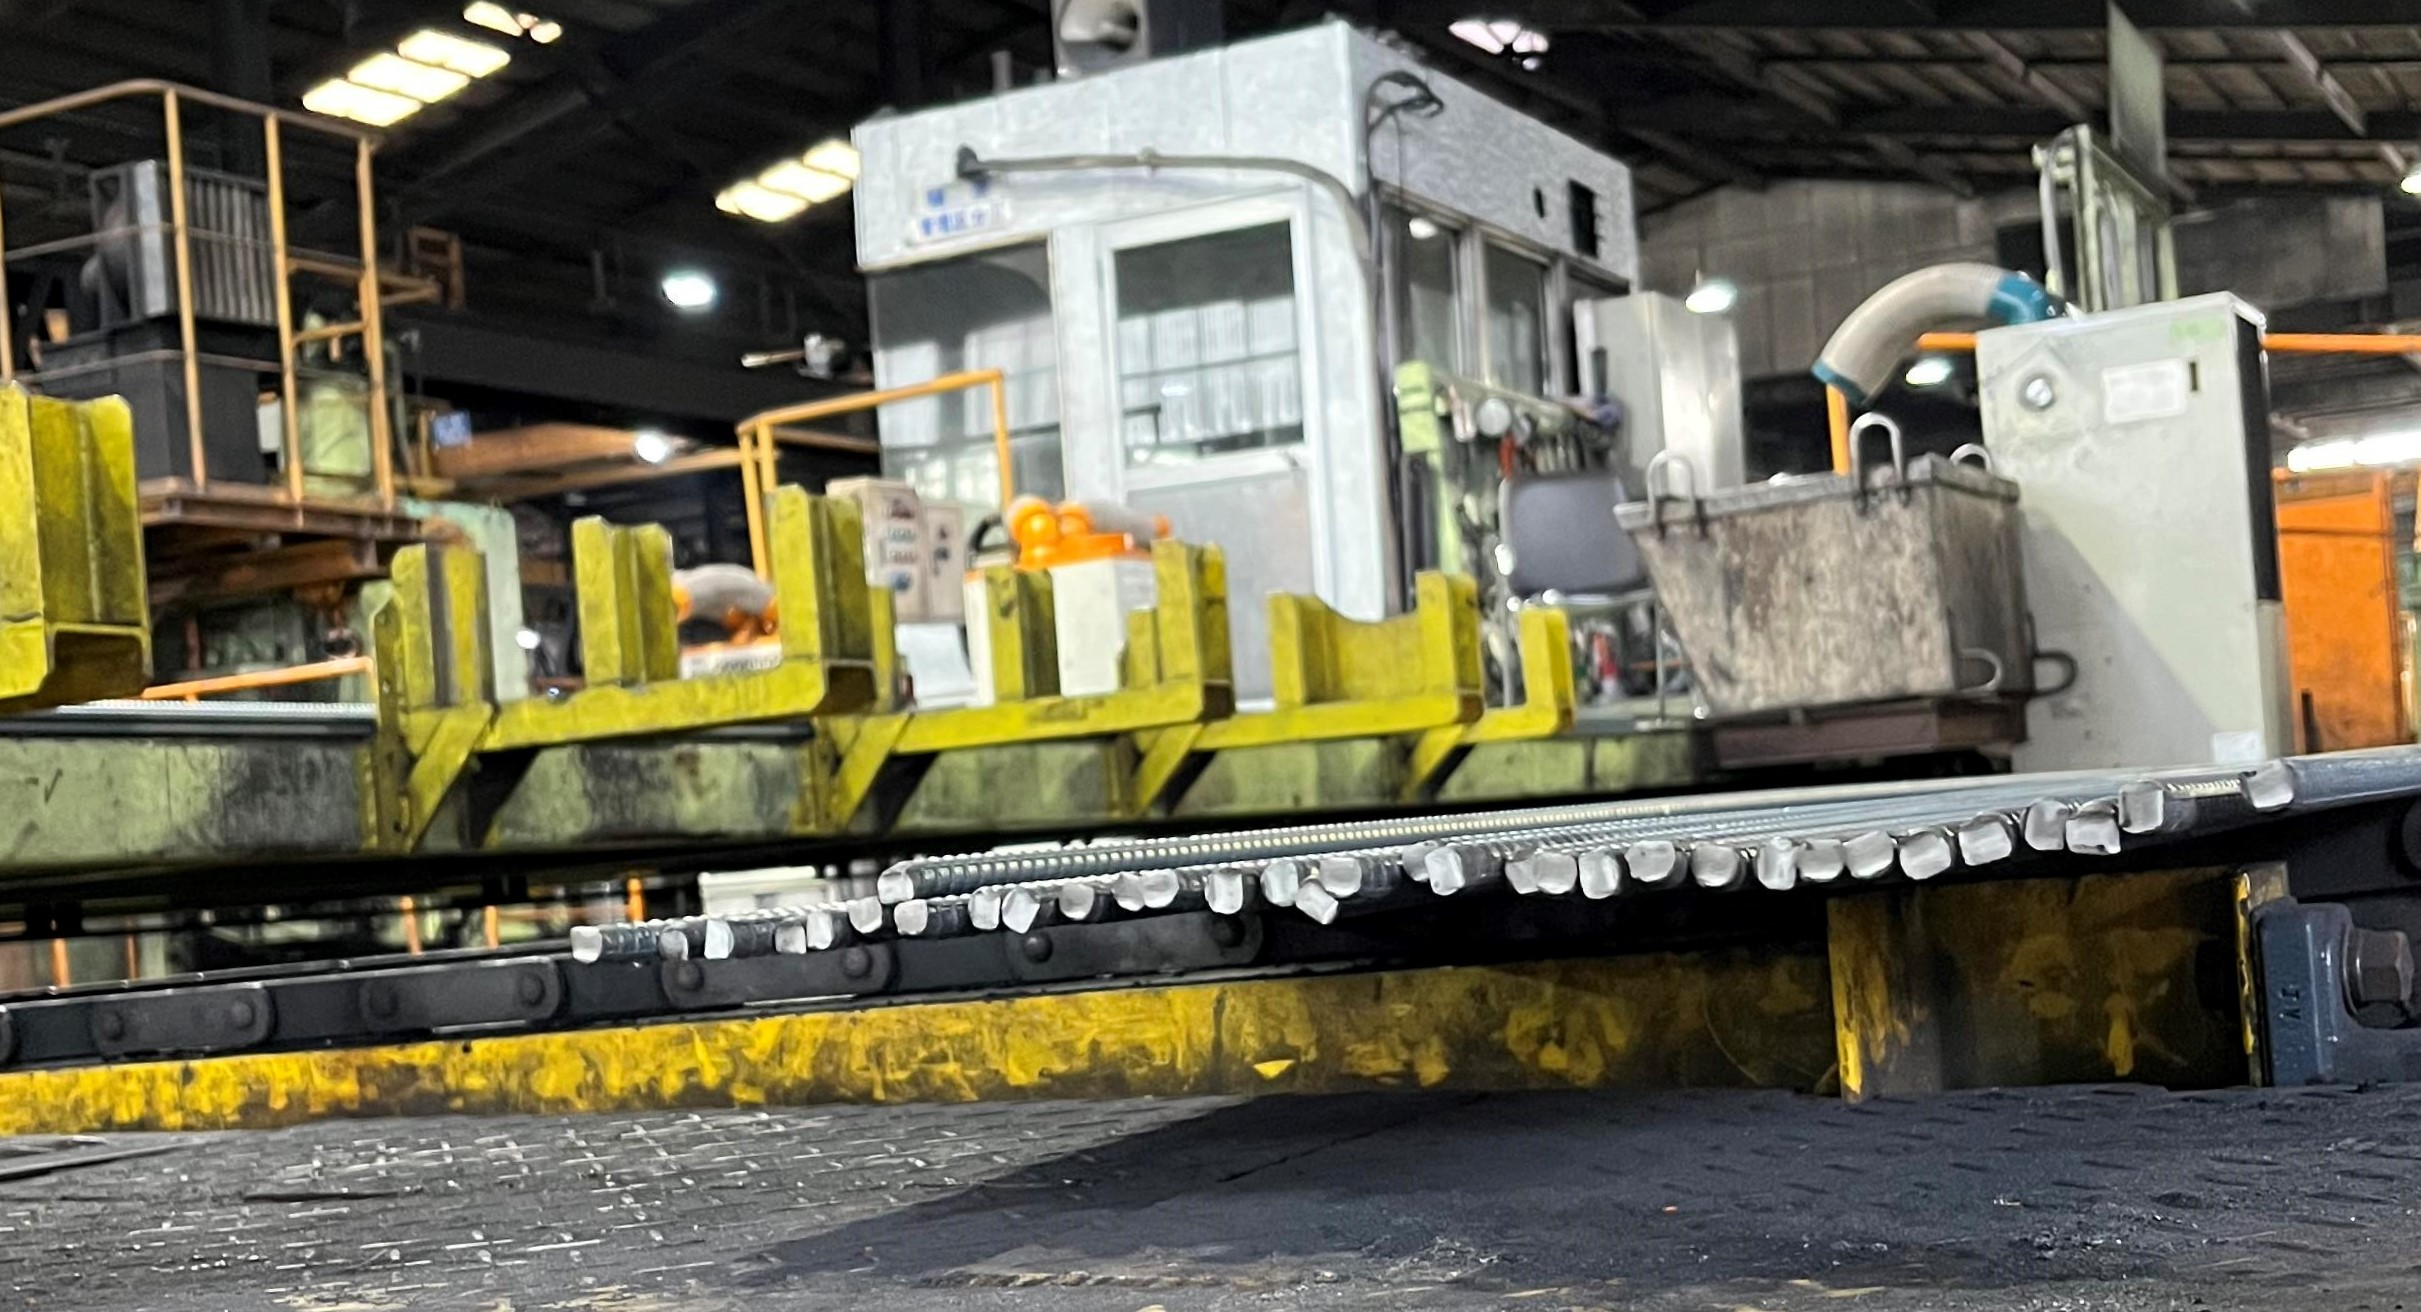rod: (1954, 809, 2016, 869), (2234, 755, 2297, 811), (1898, 826, 1954, 885), (2062, 803, 2122, 860), (1843, 826, 1898, 882), (2116, 779, 2167, 837), (2019, 793, 2067, 855), (1625, 834, 1680, 885), (1576, 847, 1625, 903), (1686, 842, 1743, 890), (1752, 835, 1798, 894), (1424, 847, 1470, 898), (1531, 848, 1578, 897), (1798, 839, 1846, 885), (1202, 863, 1245, 915), (1000, 882, 1042, 936), (1315, 855, 1365, 898), (1397, 839, 1442, 885), (1258, 858, 1302, 906), (1294, 879, 1339, 924), (1055, 877, 1095, 924), (1502, 848, 1542, 895), (565, 923, 607, 965), (1140, 868, 1182, 910), (964, 885, 1001, 932), (892, 897, 930, 939), (845, 895, 883, 936), (875, 868, 916, 906), (701, 918, 736, 961), (1110, 868, 1143, 913), (804, 903, 837, 950), (770, 918, 808, 957), (656, 926, 691, 961)
